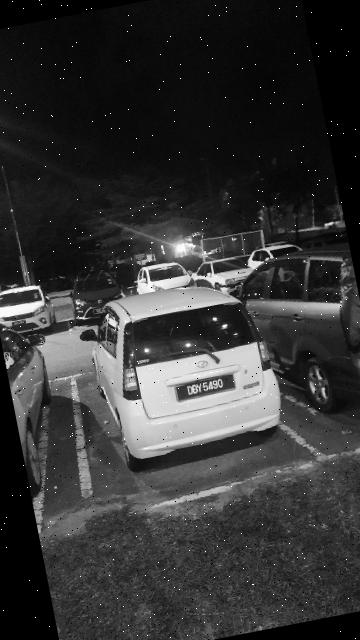License_Plate: (174, 370, 239, 404)
car: (71, 265, 290, 472)
